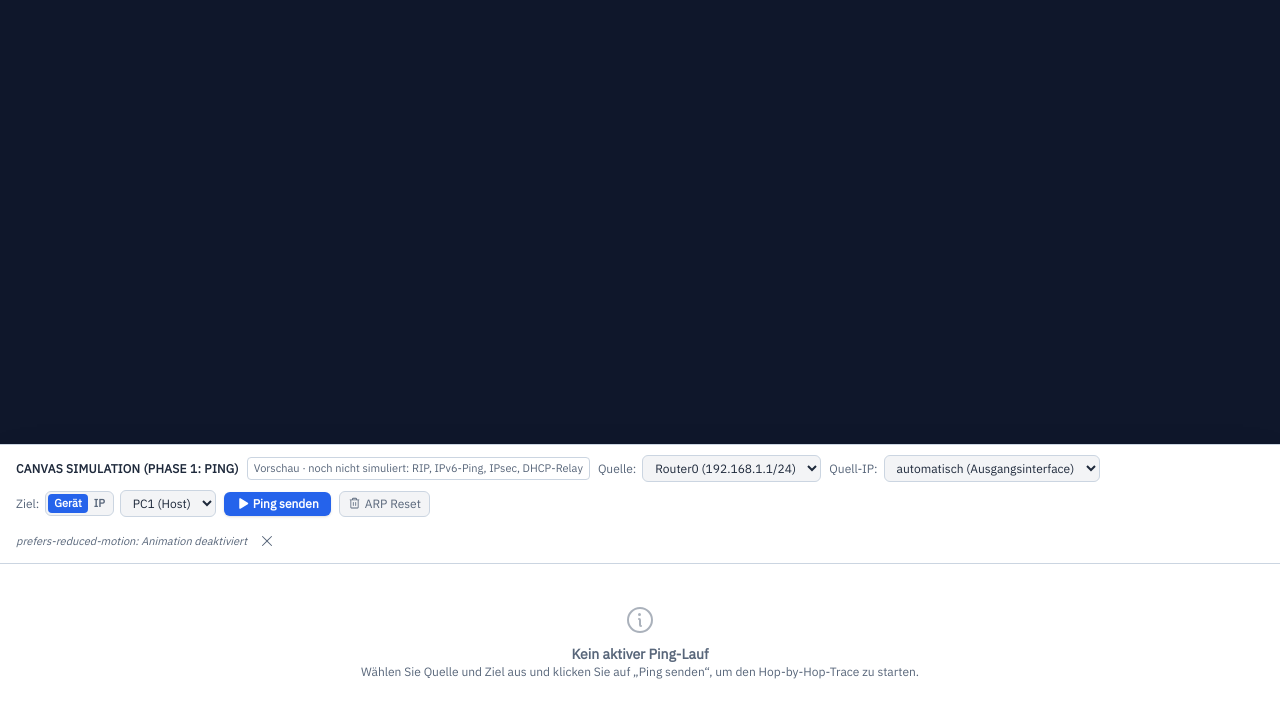
Test: SimulationDock: simulierte DHCP-Vergabe › kennzeichnet vergebene Leases im Ergebnis als simulierte Vergabe
Click the button "Ping senden": [277, 504] box x1=224 y1=492 x2=331 y2=516
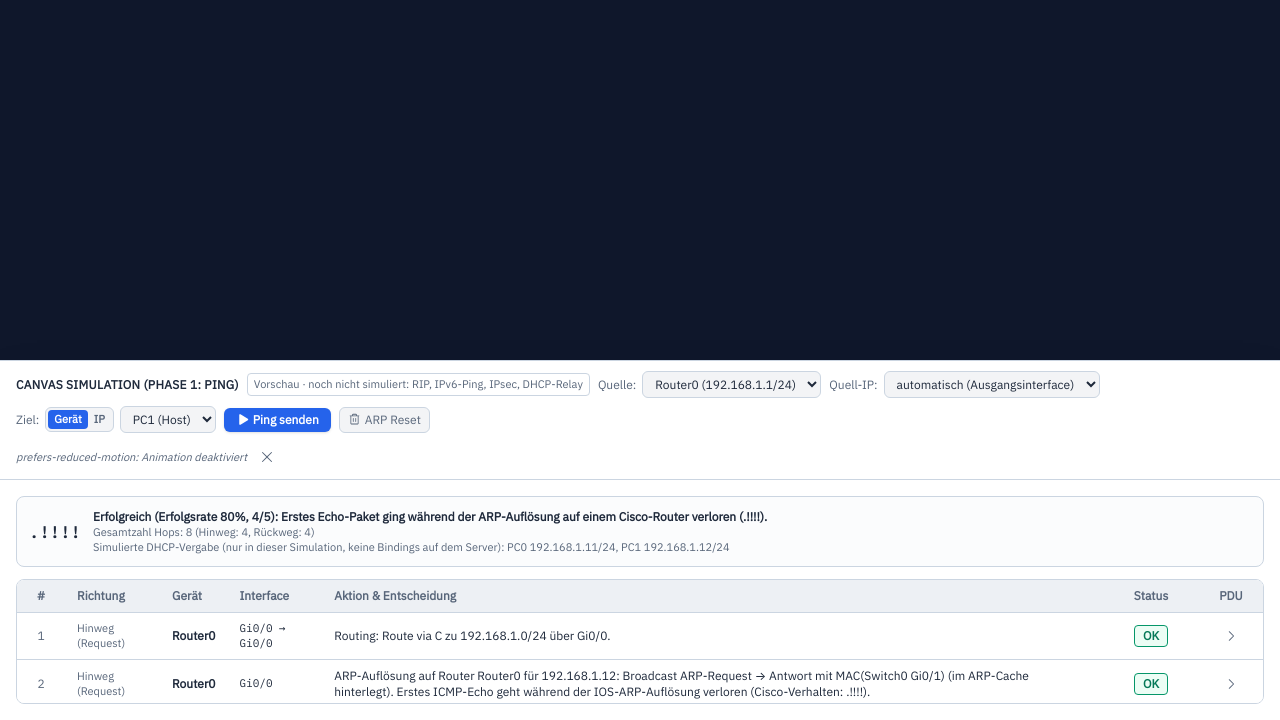
Expected: the text with test id "simulated-leases" shows "Simulierte DHCP-Vergabe", x1=93 y1=540 x2=504 y2=554
Expected: the text with test id "simulated-leases" shows "PC0 192.168.1.11/24", x1=507 y1=540 x2=730 y2=554
